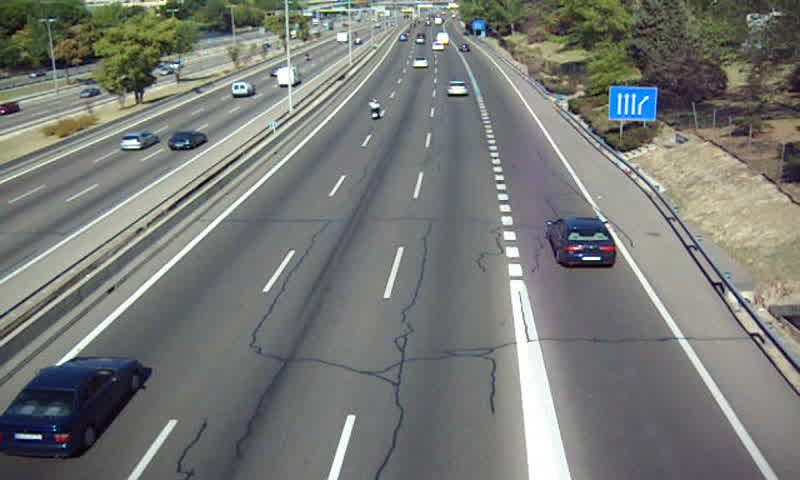car: (1, 358, 141, 456), (547, 218, 616, 268), (446, 80, 469, 96), (411, 56, 430, 69)
motorcycle: (366, 97, 382, 122)
